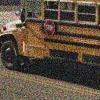buses: (0, 0, 99, 72)
